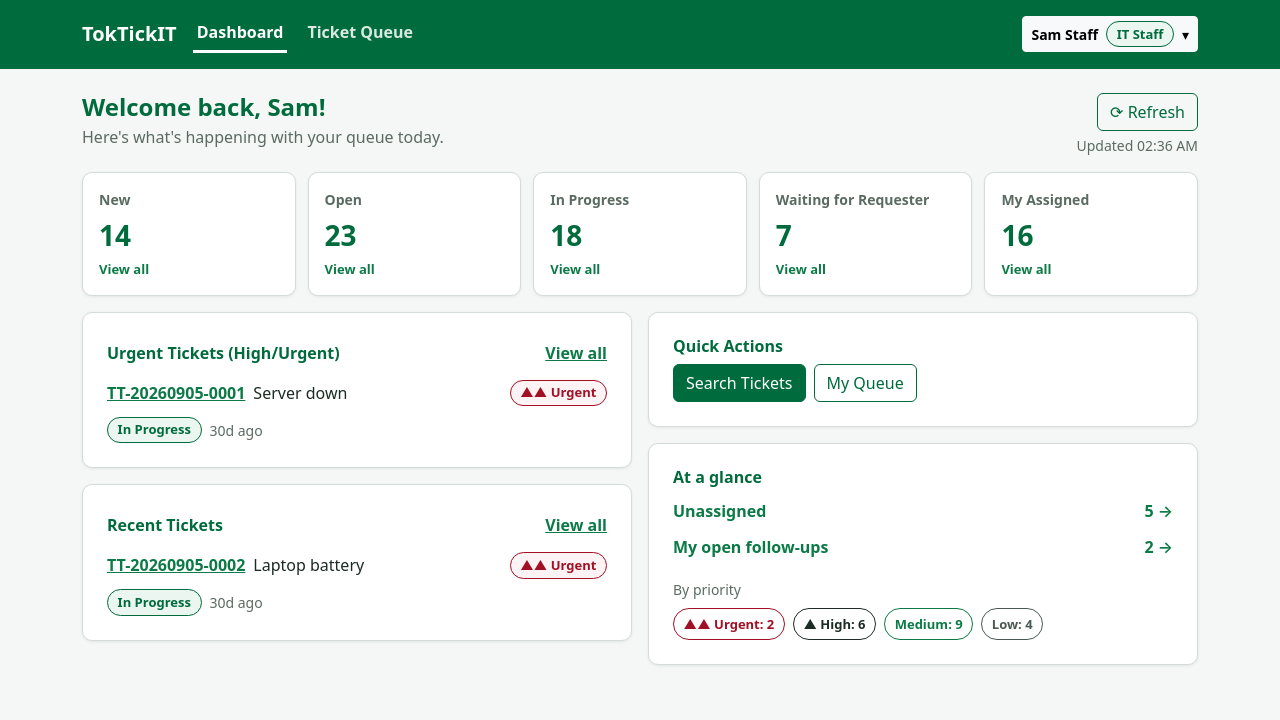
Scenario: Staff Dashboard — metric cards and drill-down (AC-24, AC-25) › opens the Ticket Queue filtered to match the clicked card's count
expect the heading "Welcome back, Sam!" is shown: met, box [82,90,326,123]
Click the button with aria-label "New: 14, view all".
click(189, 234)  # box [82,172,296,296]
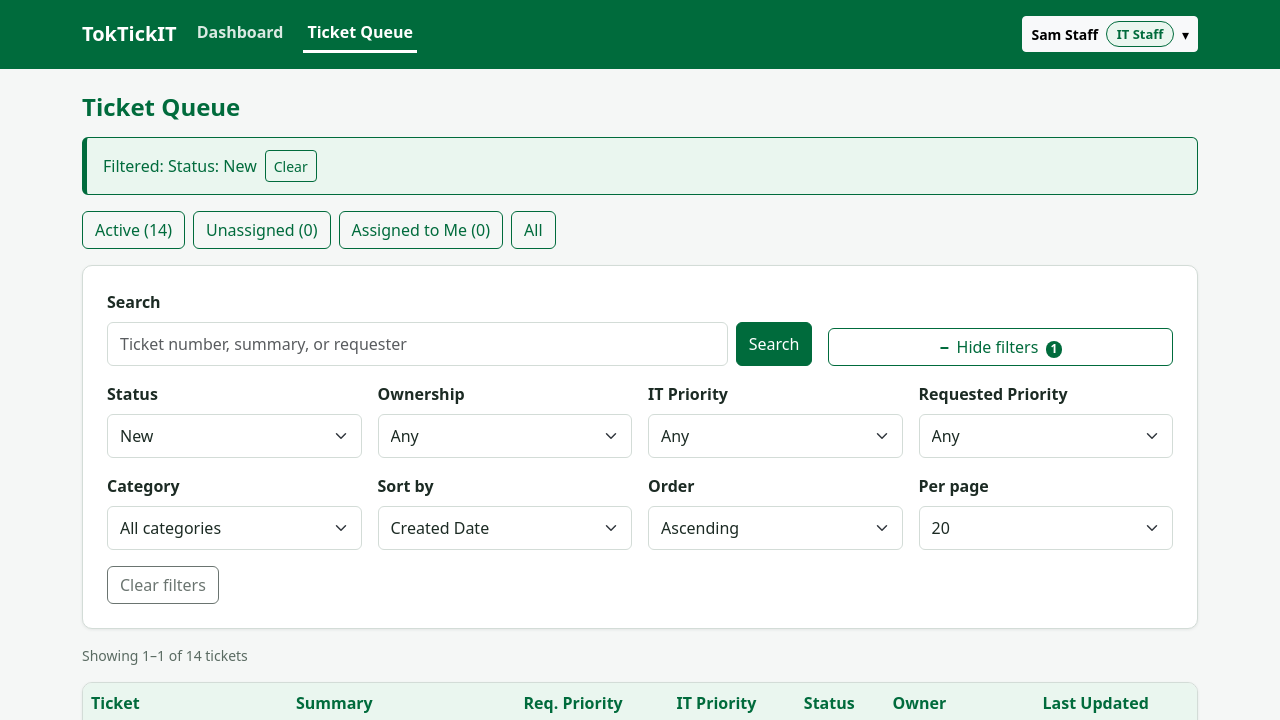
expect the heading "Ticket Queue" is shown: met, box [82,90,240,123]
expect the text "Showing 1–1 of 14 tickets" is shown: met, box [82,646,248,665]
